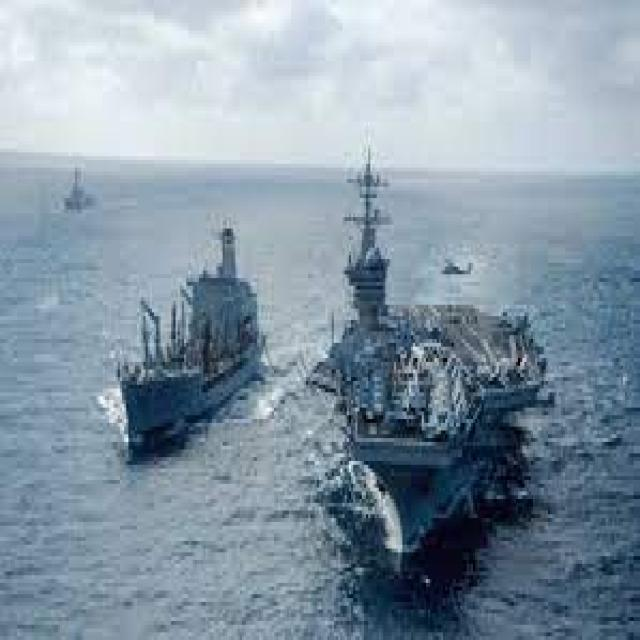navalvessels: (291, 153, 539, 589), (102, 221, 277, 457), (58, 164, 92, 218)
